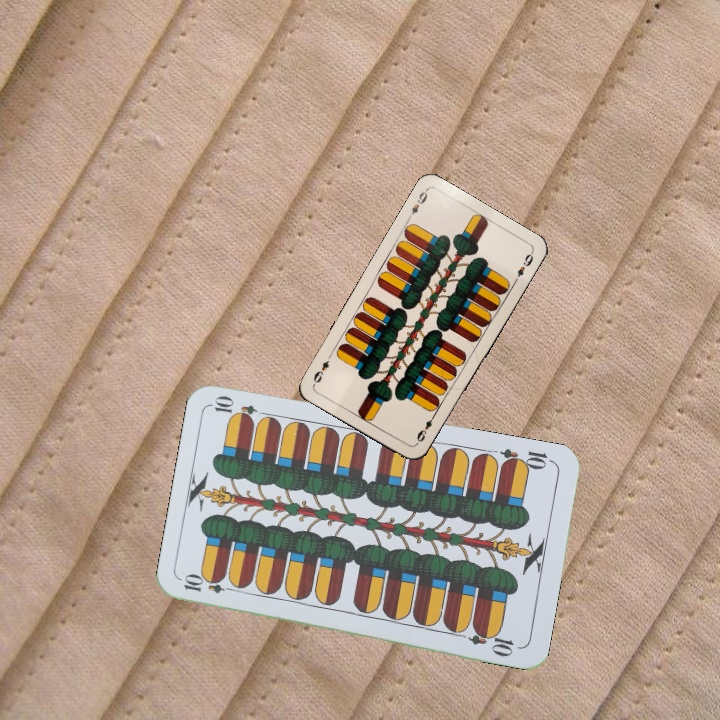E10: (497, 444, 556, 473), (180, 573, 239, 597)
E9: (412, 410, 438, 447), (404, 186, 430, 223)
